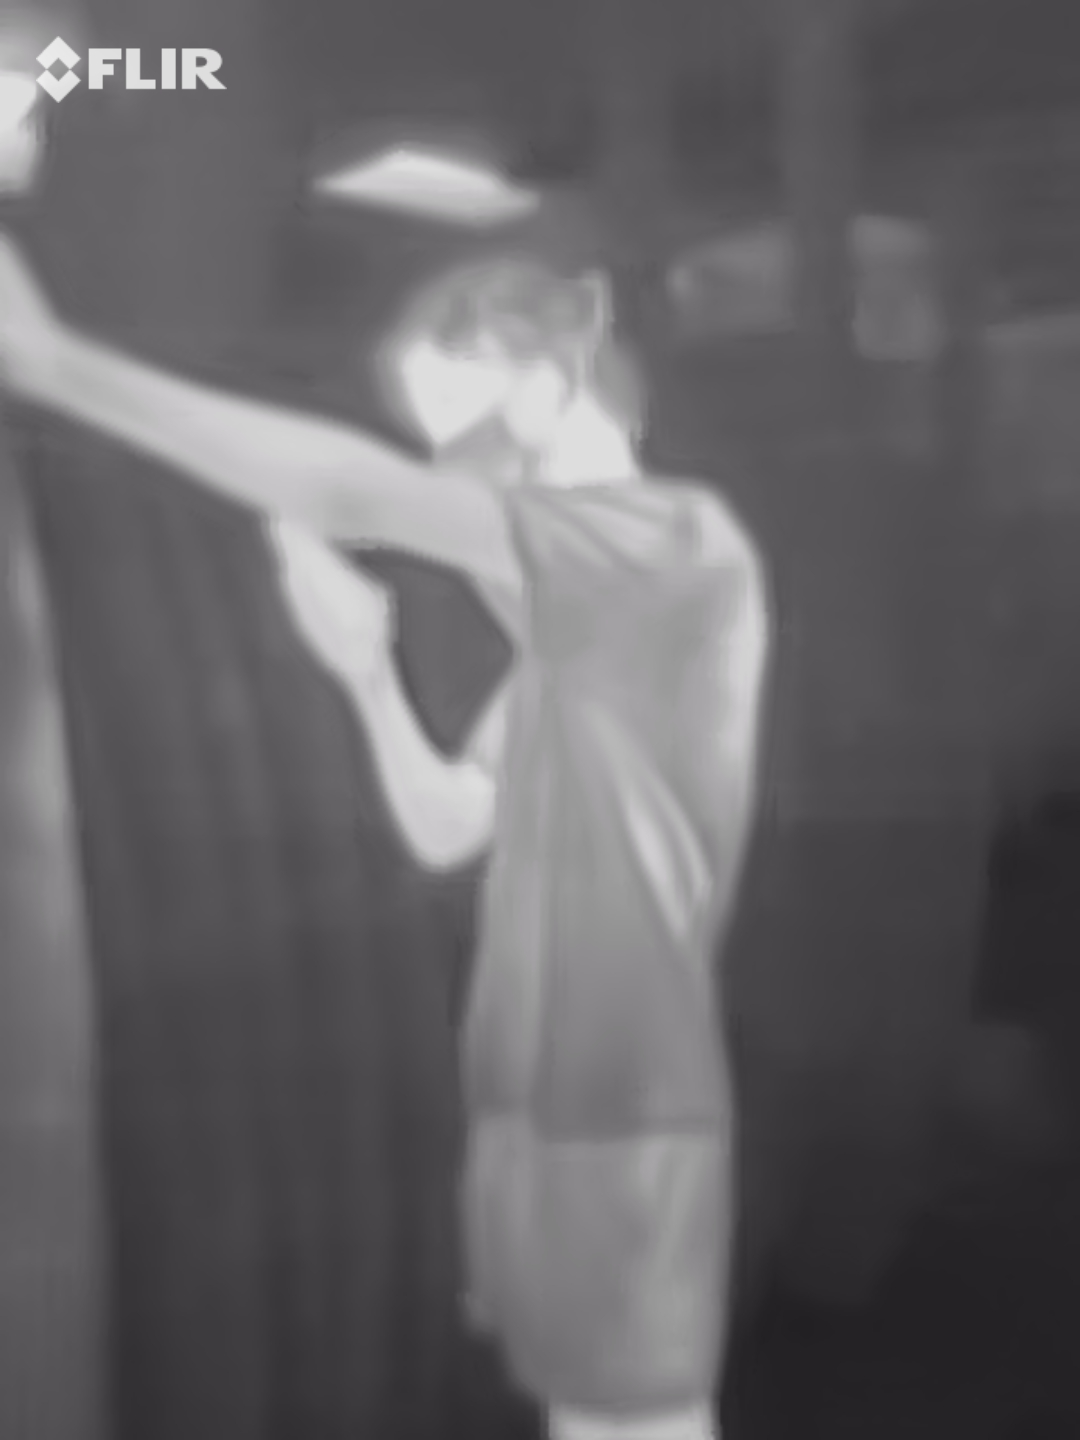head: (376, 250, 656, 483)
